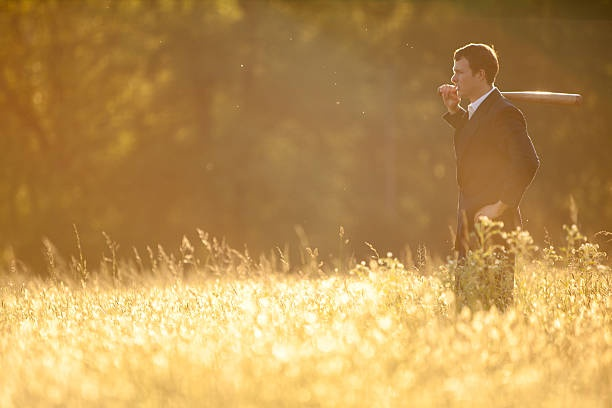bita: (502, 89, 585, 107)
